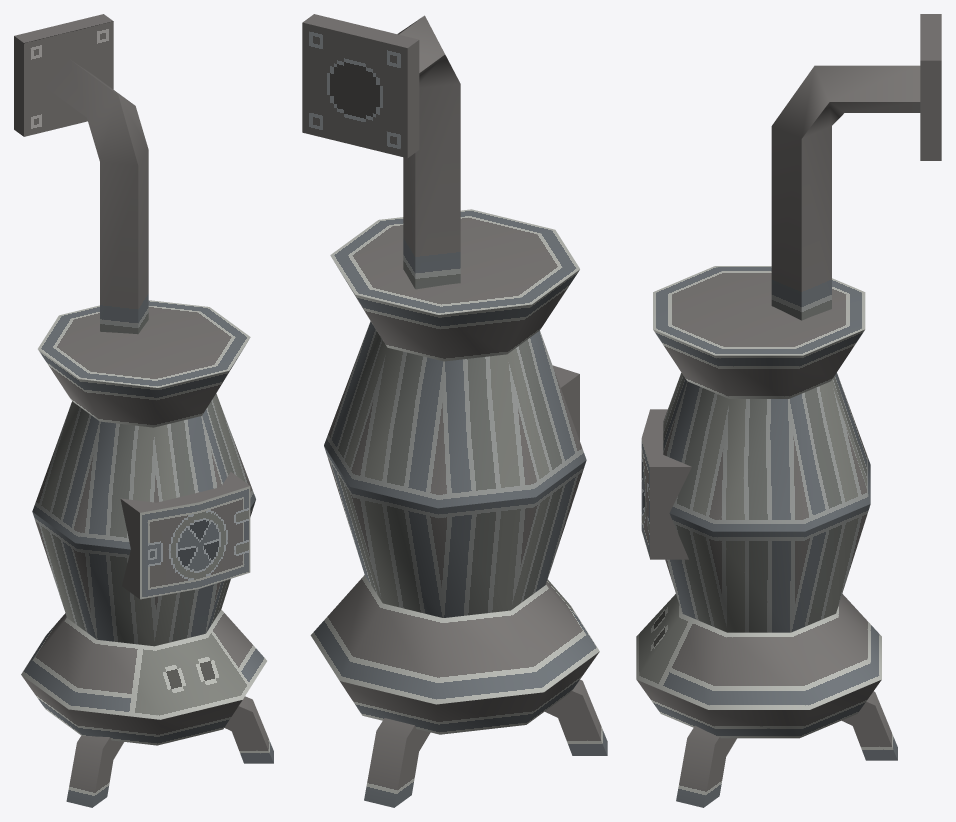
File: 009f_Potbellied_Stove.glb
3 views of the same model, side by side, from view 1: azimuth 30°, elevation 25°; view 2: azimuth 150°, elevation 25°; view 3: azimuth 270°, elevation 25° (orthographic). The views are drawn at different scales.
Parts seen in each view (by area): view 1: part_0; view 2: part_0; view 3: part_0.
Boxes of the visible parts, x1=… form: part_0: x1=14, y1=14, x2=273, y2=807; part_0: x1=302, y1=14, x2=607, y2=807; part_0: x1=636, y1=14, x2=941, y2=807.
Size of the model in its own units: 0.4212 by 1.3 by 0.5019.
1 material, 1 textured.
